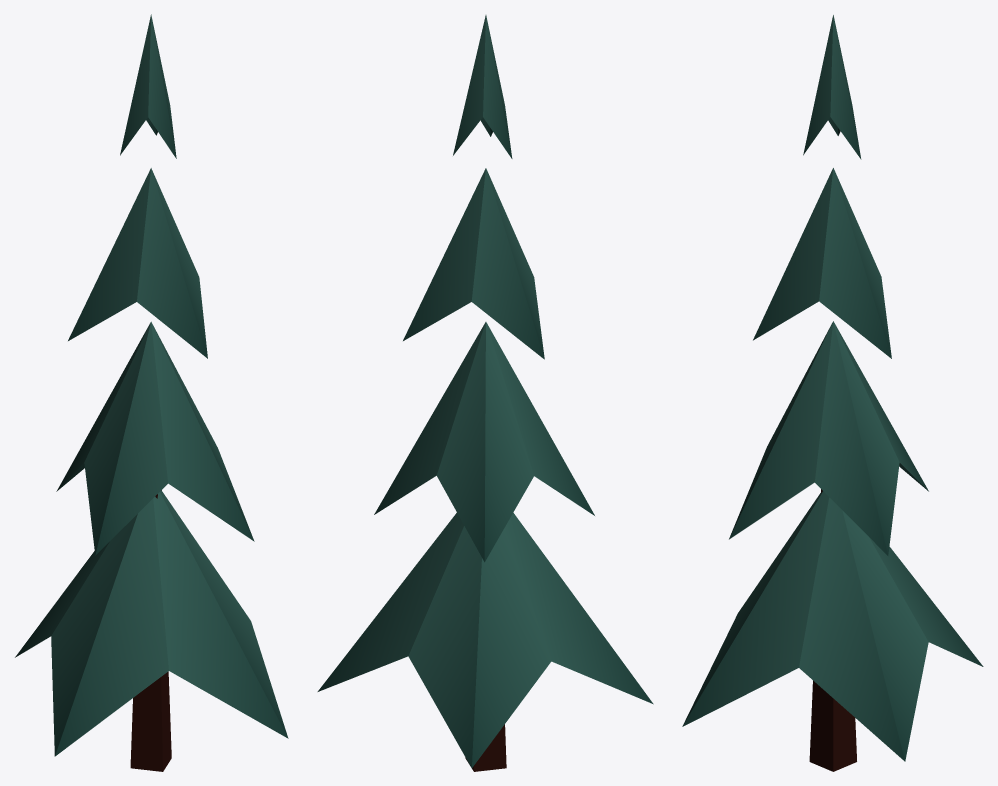
Rendered from rs_spruce_b_far.glb.
3 views of the same model, side by side, from view 1: azimuth 30°, elevation 25°; view 2: azimuth 150°, elevation 25°; view 3: azimuth 270°, elevation 25° (orthographic).
Parts seen in each view (by area): view 1: spruce_crown, spruce_trunk; view 2: spruce_crown, spruce_trunk; view 3: spruce_crown, spruce_trunk.
Part boxes in pixels (x1,y1,x2,y2): spruce_crown: (15, 14, 288, 756); spruce_trunk: (130, 490, 171, 771); spruce_crown: (317, 15, 653, 768); spruce_trunk: (465, 724, 506, 771); spruce_crown: (682, 15, 983, 761); spruce_trunk: (809, 489, 856, 771).
Size of the model in its own units: 0.3849 by 1.04 by 0.3805.
